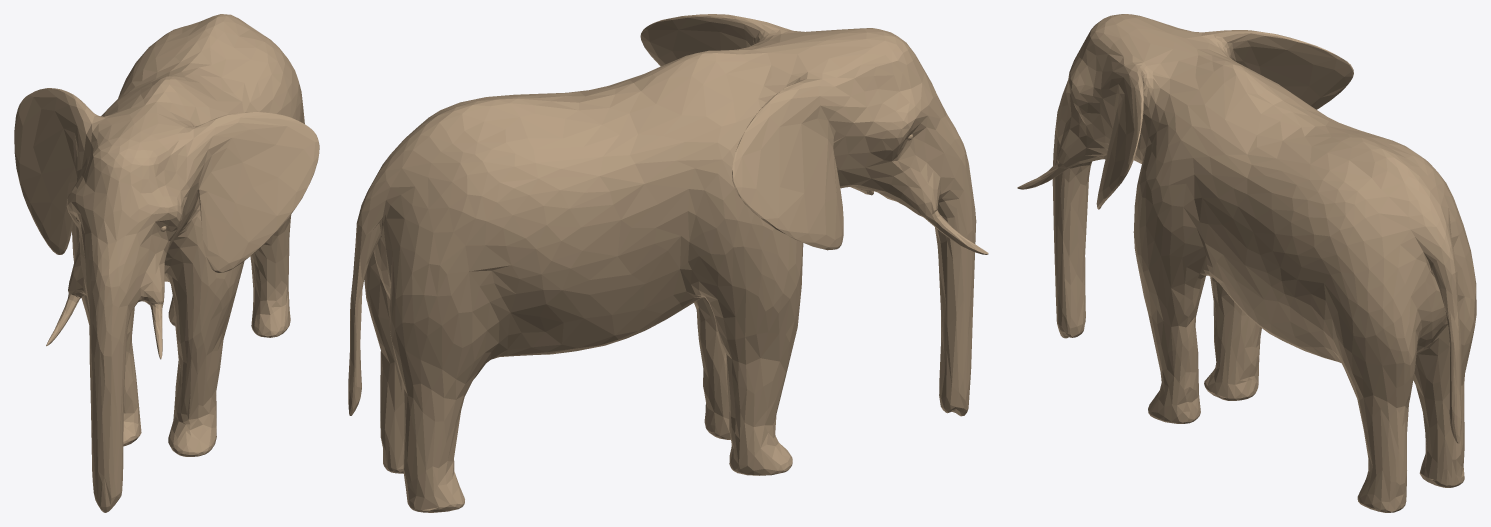
The model's file is elephant.glb.
3 renders of one model, left to right at view 1: azimuth 30°, elevation 25°; view 2: azimuth 150°, elevation 25°; view 3: azimuth 270°, elevation 25°, orthographic. The views are drawn at different scales.
Parts seen in each view (by area): view 1: Mesh_Mesh_head_geo.001_lambert2SG.001; view 2: Mesh_Mesh_head_geo.001_lambert2SG.001; view 3: Mesh_Mesh_head_geo.001_lambert2SG.001.
Part boxes in pixels (<box>): Mesh_Mesh_head_geo.001_lambert2SG.001: <box>14,14,319,512</box>; Mesh_Mesh_head_geo.001_lambert2SG.001: <box>348,14,988,512</box>; Mesh_Mesh_head_geo.001_lambert2SG.001: <box>1017,14,1476,512</box>.
Bounding box in the file's own units: 0.1148 × 0.0976 × 0.1147.
